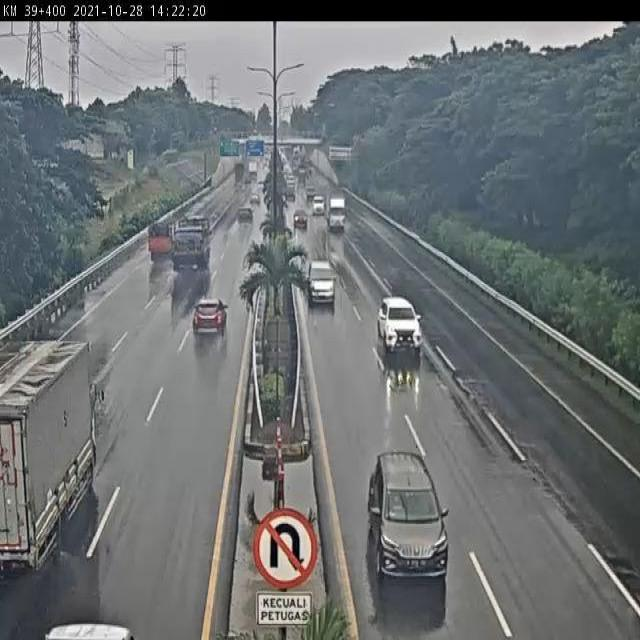car: (366, 449, 451, 579), (377, 293, 426, 360), (193, 296, 230, 337), (308, 260, 337, 308)
truck-l-: (0, 334, 100, 574), (169, 218, 213, 274)
truck-s-: (146, 221, 178, 263)
